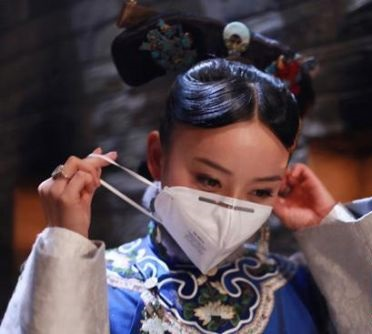face_mask: (161, 120, 286, 268)
